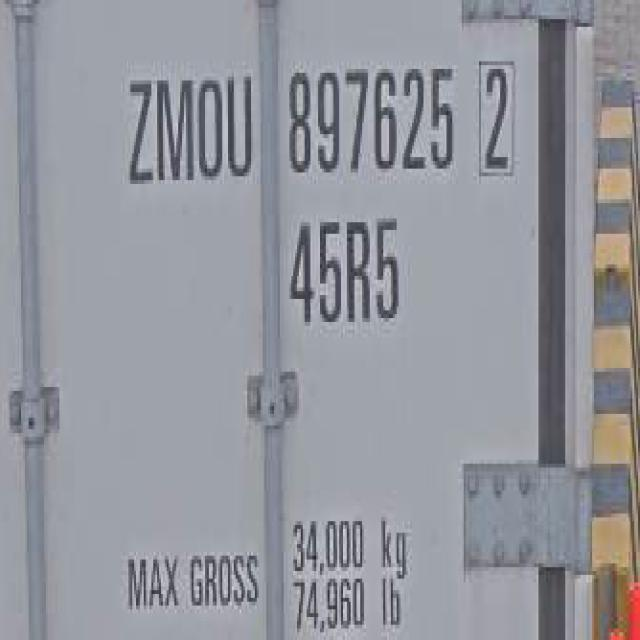dv: (474, 51, 518, 190)
owner: (122, 60, 255, 201)
serial: (282, 49, 458, 188)
size: (284, 210, 403, 333)
